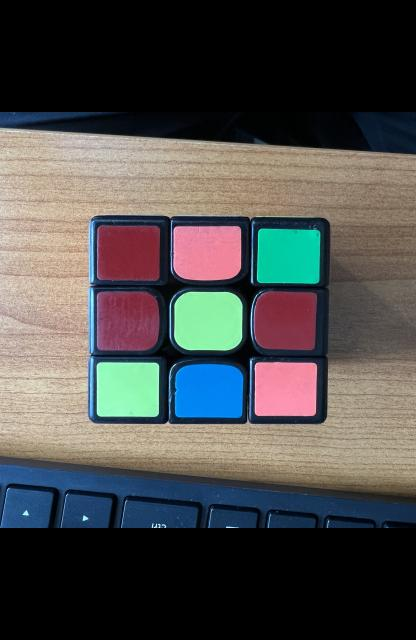Blue: (174, 364, 243, 418)
Green: (256, 229, 319, 284)
Orange: (172, 226, 240, 281), (254, 362, 317, 416)
Red: (253, 291, 317, 350), (96, 292, 159, 350), (96, 226, 159, 281)
Yellow: (173, 292, 242, 350), (96, 362, 159, 416)
